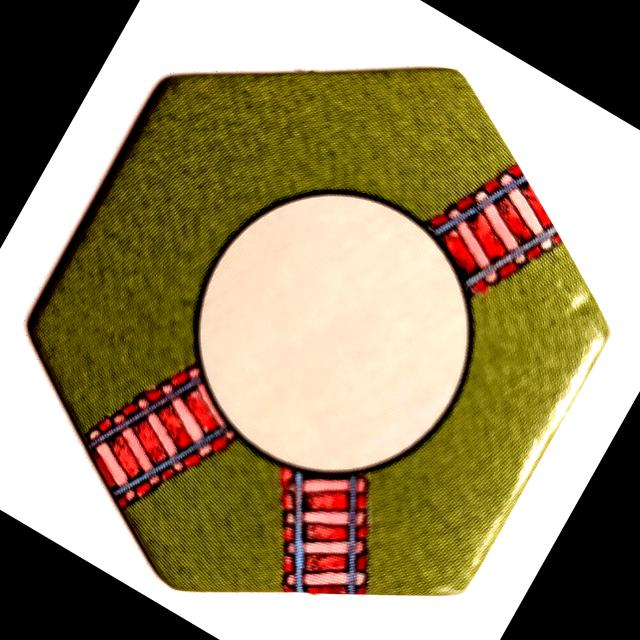14_4: (26, 66, 607, 597)
